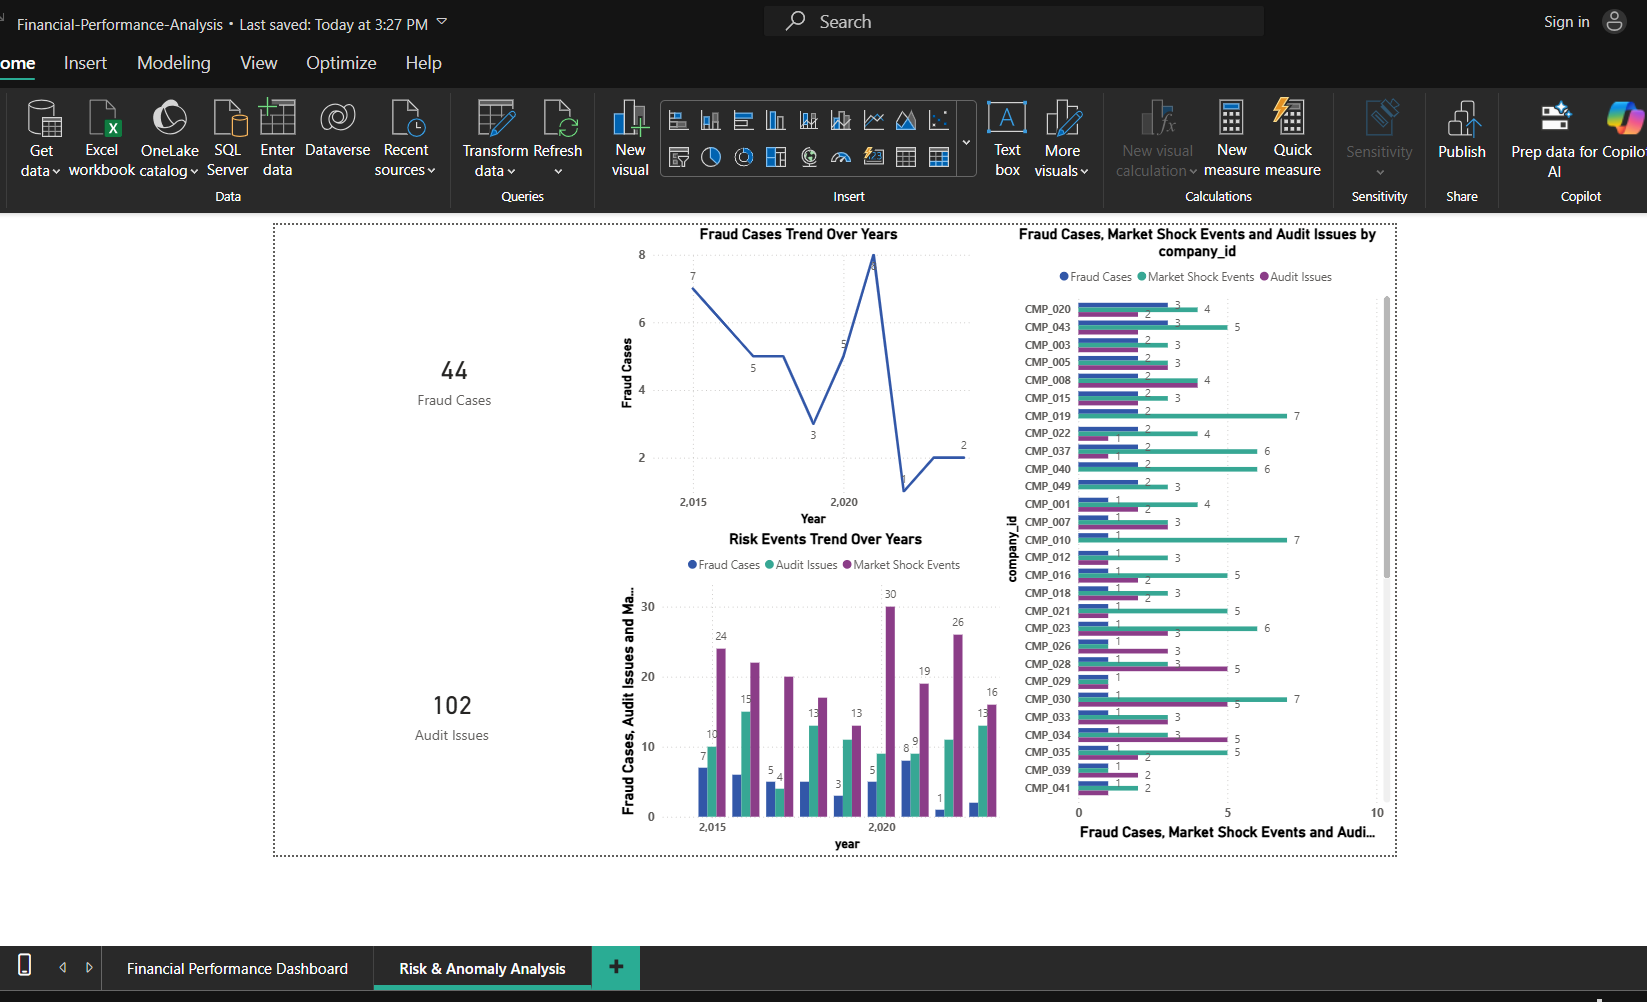

This screenshot's page, from the dashboard's own definition file:
{"tool":"powerbi","page":{"name":"Risk & Anomaly Analysis","canvas":[1280,720],"ordinal":1},"visuals":[{"type":"card","fields":{"Values":["financial_data.Fraud Cases"]},"box":[0,0,410,350],"z":0},{"type":"lineChart","title":"Fraud Cases Trend Over Years","fields":{"Category":["financial_data.year"],"Y":["financial_data.Fraud Cases"]},"box":[0,338.6,410,381.4],"z":1},{"type":"card","fields":{"Values":["financial_data.Audit Issues"]},"box":[410,0,404.3,324.3],"z":2},{"type":"clusteredColumnChart","title":"Risk Events Trend Over Years","fields":{"Category":["financial_data.year"],"Y":["financial_data.Fraud Cases","financial_data.Audit Issues","financial_data.Market Shock Events"]},"box":[398.6,348.6,481.4,371.4],"z":3},{"type":"clusteredBarChart","fields":{"Category":["financial_data.company_id"],"Y":["financial_data.Fraud Cases","financial_data.Market Shock Events","financial_data.Audit Issues"]},"box":[828.6,22.9,451.4,388.6],"z":4}]}

Visuals, with their boxes on the page's 1280x720 design canvas (x1, y1, x2, y2). These are canvas units, not pixel positions in the 1647x1002 screenshot, which may show the page scaled, cropped or inside an application window:
card - financial_data.Fraud Cases: box(0, 0, 410, 350)
"Fraud Cases Trend Over Years" lineChart: box(0, 339, 410, 720)
card - financial_data.Audit Issues: box(410, 0, 814, 324)
"Risk Events Trend Over Years" clusteredColumnChart: box(399, 349, 880, 720)
clusteredBarChart - financial_data.company_id x financial_data.Fraud Cases: box(829, 23, 1280, 412)
